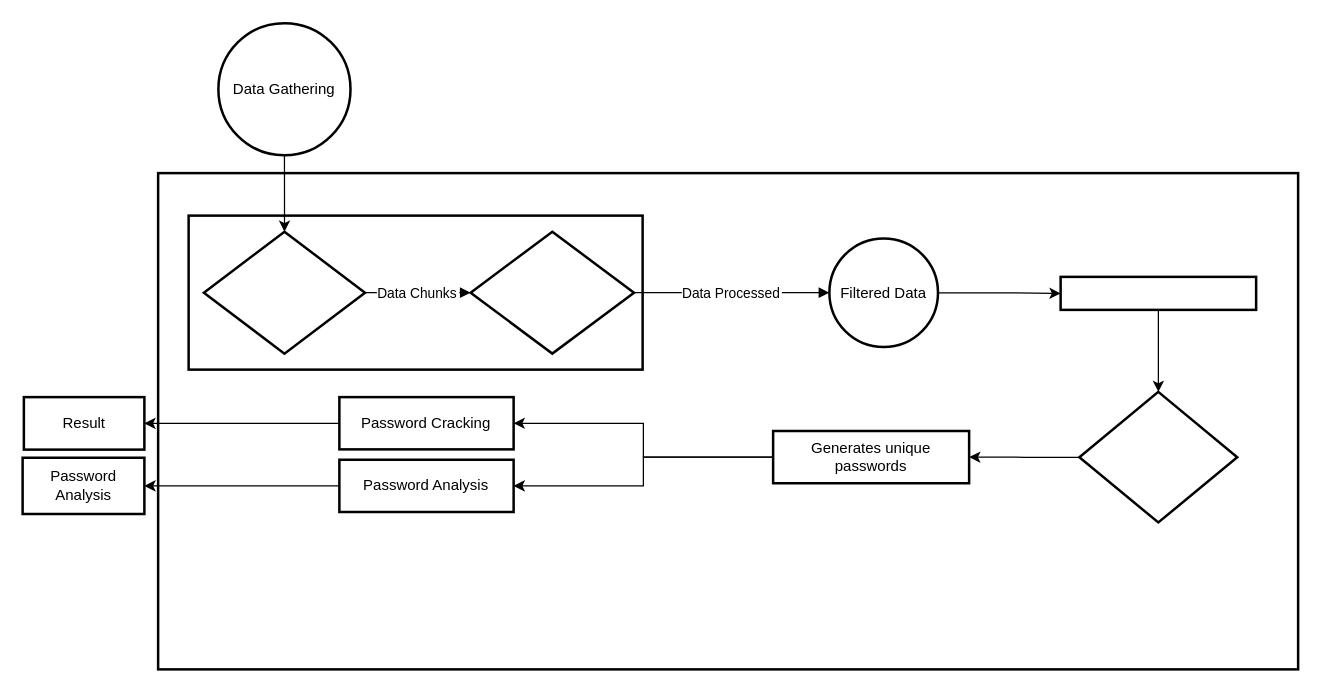
Image size: 1321x691. Some labels were removed from this diagram. The centre of each missing label's shape, as x and y in pixels:
Data Filteration: point (552, 292)
Data Splitting: point (284, 292)
Development of AI Model: point (1158, 292)
Training of the RNN Model: point (1158, 456)
